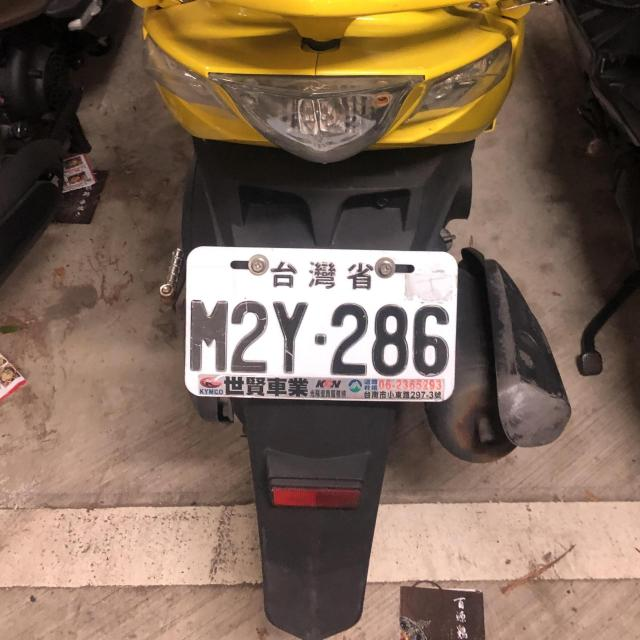W: (180, 242, 462, 406)
